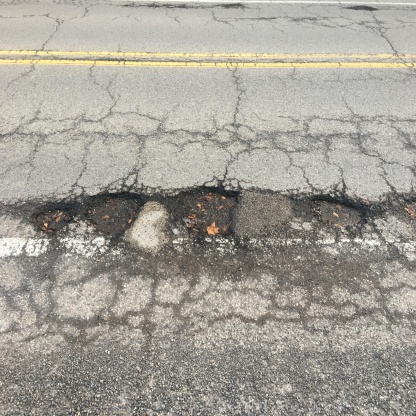pothole: (16, 178, 157, 252), (161, 172, 252, 256), (298, 186, 372, 236)
